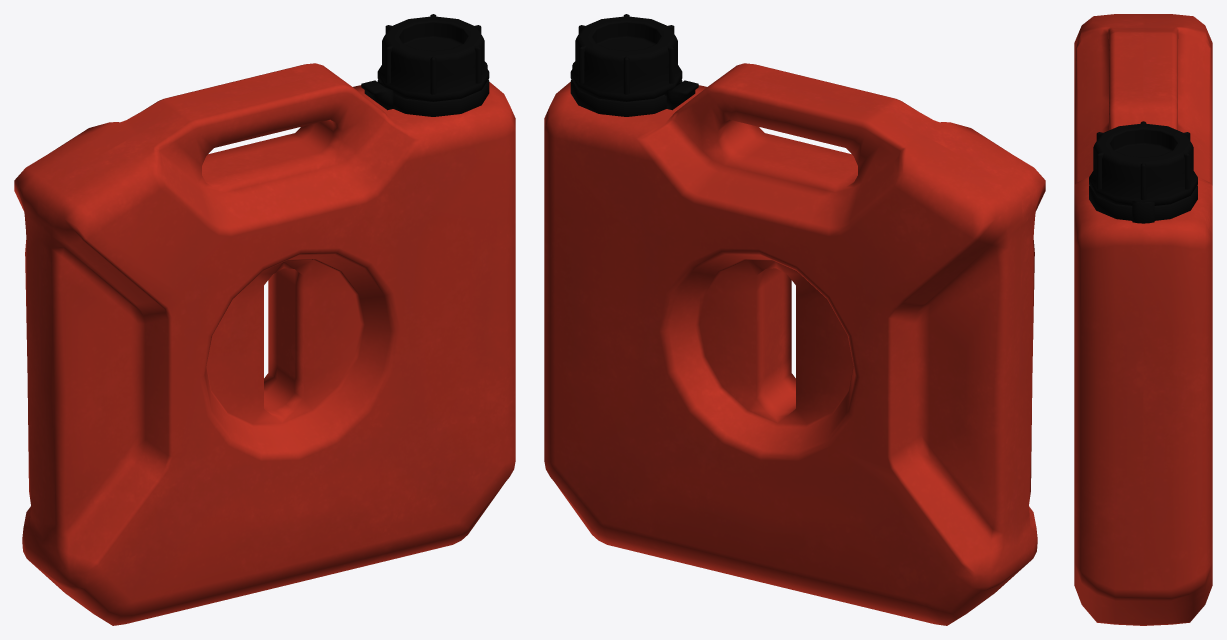
3 renders of one model, left to right at view 1: azimuth 30°, elevation 25°; view 2: azimuth 150°, elevation 25°; view 3: azimuth 270°, elevation 25°, orthographic. The views are drawn at different scales.
Visible parts, largest first — view 1: jerrycan_geo_low, surface01_geo_low, surface04_geo_low, surface06_geo_low; view 2: jerrycan_geo_low, surface01_geo_low, surface04_geo_low, surface06_geo_low; view 3: jerrycan_geo_low, surface01_geo_low, surface04_geo_low, surface06_geo_low, surface05_geo_low.
Part boxes in pixels (box(x1,y1,x2,y2)): jerrycan_geo_low: box(14, 63, 515, 625); surface01_geo_low: box(377, 16, 489, 101); surface04_geo_low: box(377, 79, 489, 116); surface06_geo_low: box(385, 14, 481, 94); jerrycan_geo_low: box(544, 63, 1045, 625); surface01_geo_low: box(570, 16, 682, 101); surface04_geo_low: box(570, 79, 682, 116); surface06_geo_low: box(578, 14, 674, 94); jerrycan_geo_low: box(1074, 14, 1212, 625); surface01_geo_low: box(1089, 123, 1197, 205); surface04_geo_low: box(1089, 185, 1197, 220); surface06_geo_low: box(1096, 121, 1190, 200); surface05_geo_low: box(1132, 201, 1154, 223).
Size of the model in its own units: 0.3002 by 0.3069 by 0.08.
1 material, 1 textured.
